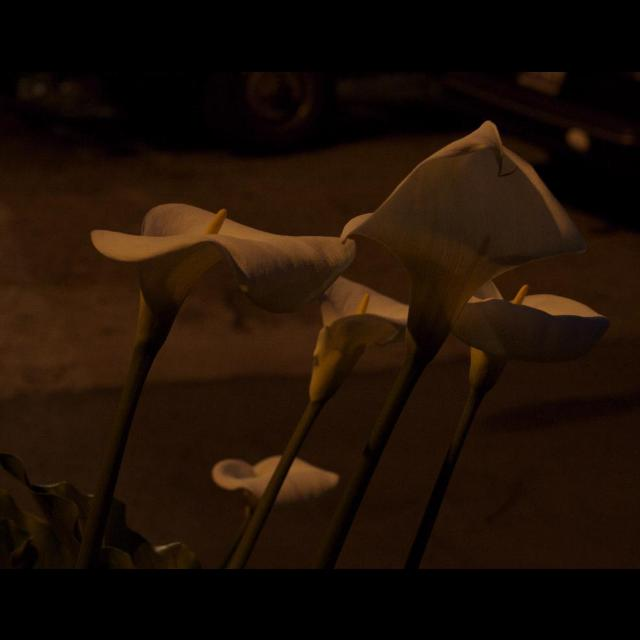Flower: (338, 116, 586, 362), (86, 204, 360, 340), (445, 278, 611, 384), (310, 282, 410, 398), (200, 452, 340, 506)
